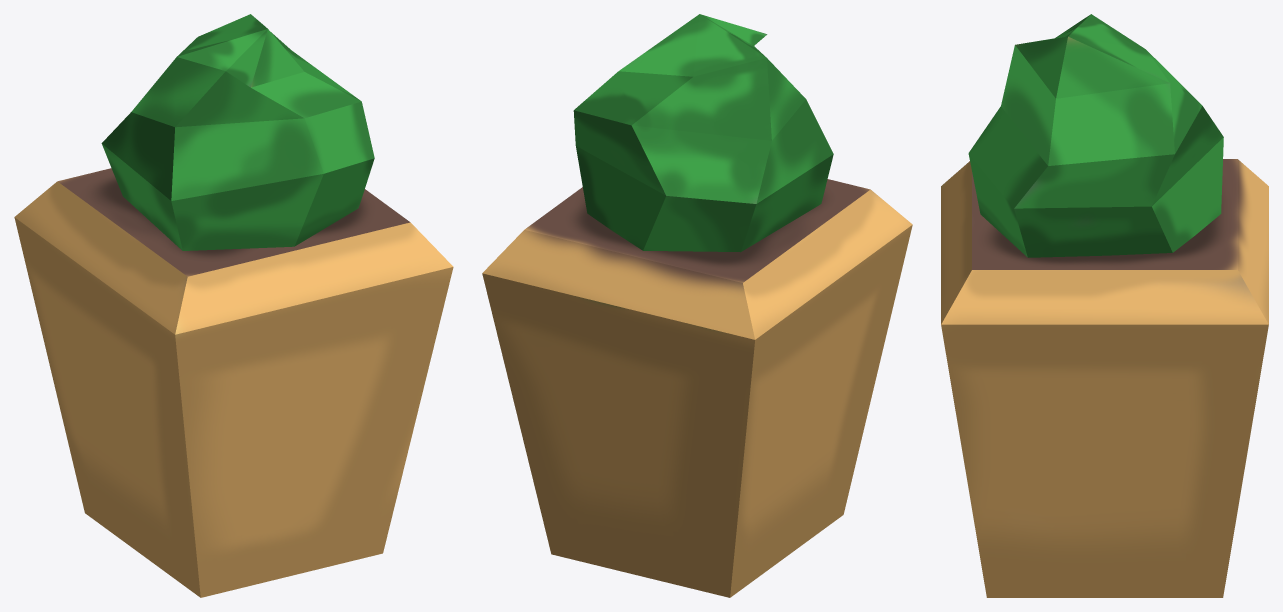
File: vaso.fbx
3 renders of one model, left to right at view 1: azimuth 30°, elevation 25°; view 2: azimuth 150°, elevation 25°; view 3: azimuth 270°, elevation 25°, orthographic. The views are drawn at different scales.
Parts seen in each view (by area): view 1: Cube; view 2: Cube; view 3: Cube.
Boxes of the visible parts, x1,y1,x2,y2 form: Cube: [14, 14, 453, 597]; Cube: [482, 14, 912, 597]; Cube: [941, 14, 1268, 597].
Bounding box in the file's own units: 200 × 353 × 200.
